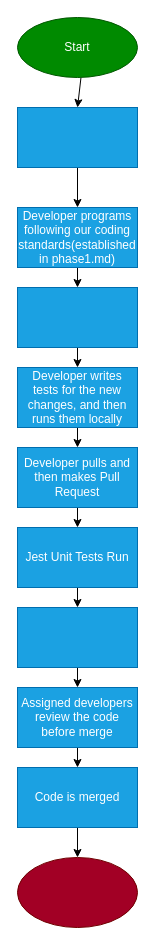
Image size: 155x945. Some labels were removed from this diagram. Each missing label, with the centre of its shape:
Call JSDocs on all changed files before PR: the point at 77,317
End: the point at 77,892
Pull, then make new branch for feature, set main as upstream: the point at 77,137
Puppeteer E2E Tests run: the point at 77,637
